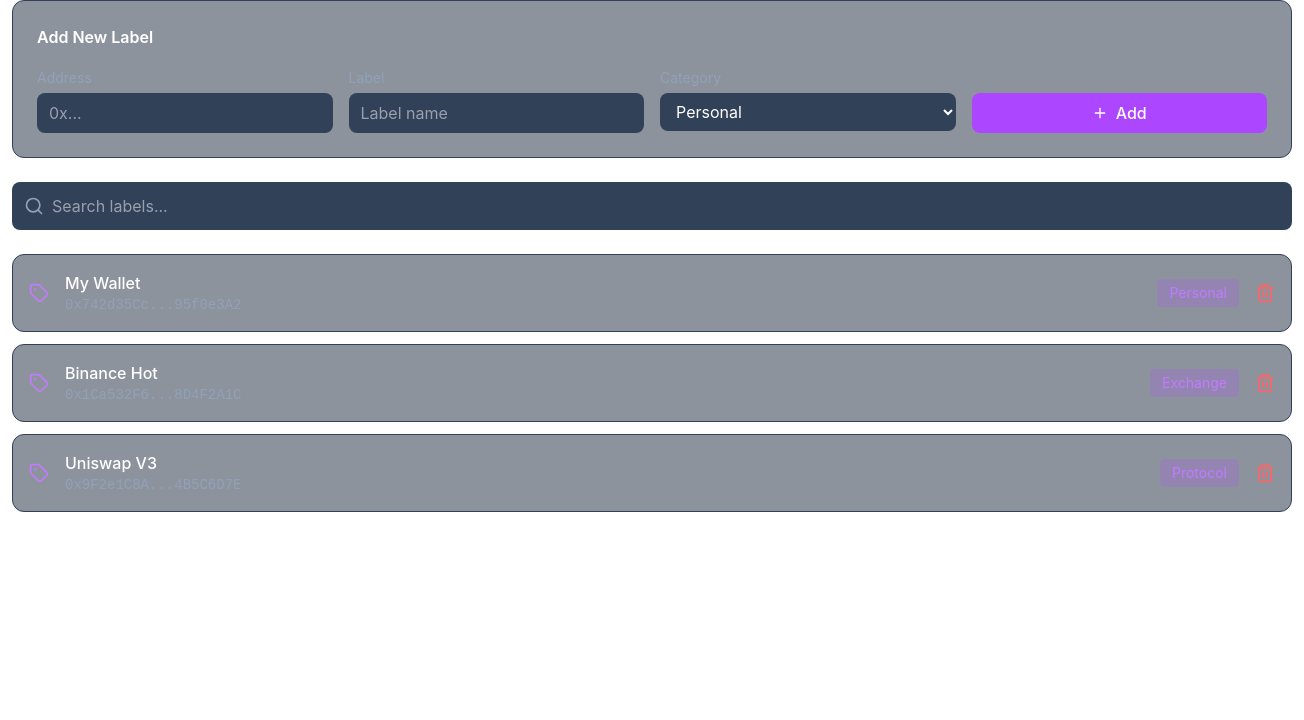
Test: AddressLabelManager › can add a new label
The image size is (1304, 720).
Type "0xABC123" into the field with placeholder "0x...". click: (185,113)
box: [37,93,332,133]
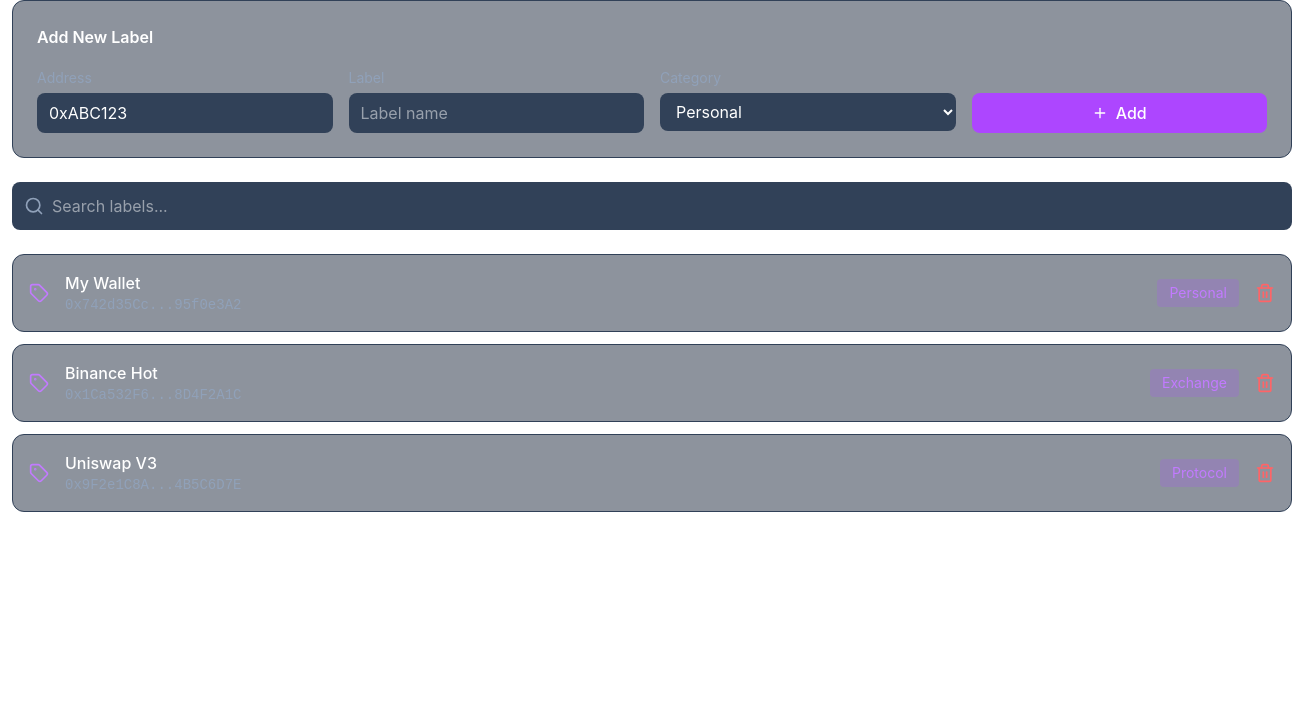
Type "Test Label" into the field with placeholder "Label name". click: (496,113)
box: [348,93,644,133]
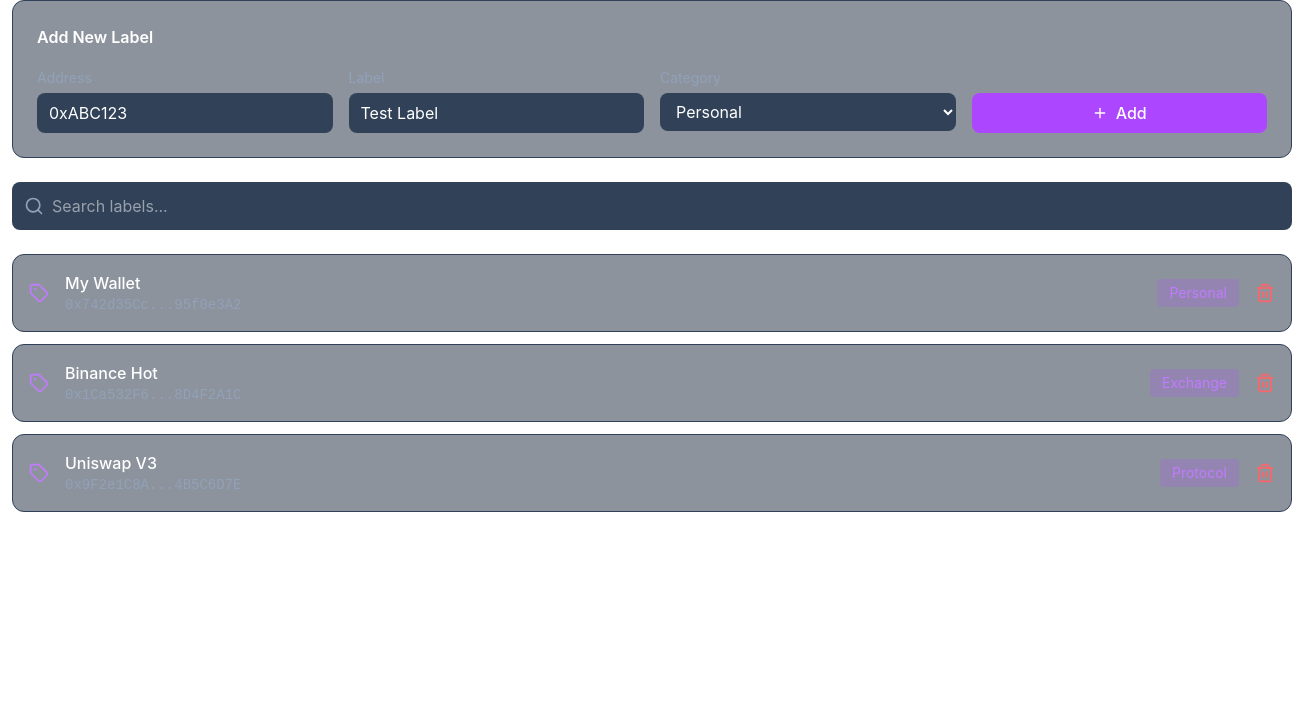
Click the button "Add". click: (1119,113)
box: [972,93,1267,133]
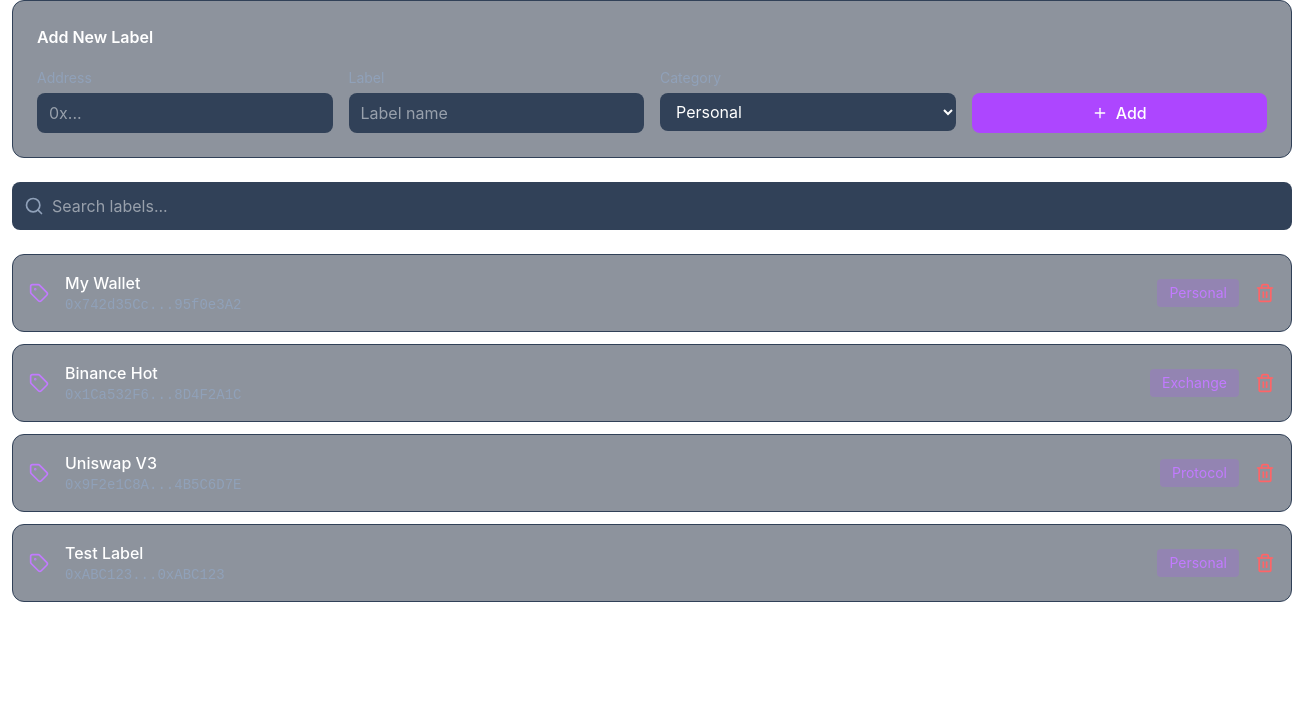
Expected: the text "Test Label" is shown, [65,543,143,563]
